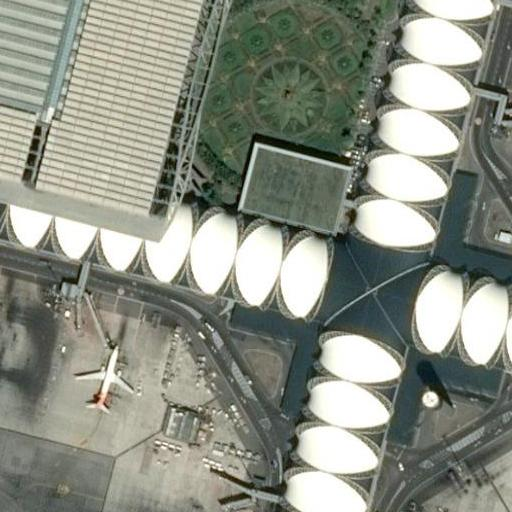Aircraft: (73, 343, 134, 414)
